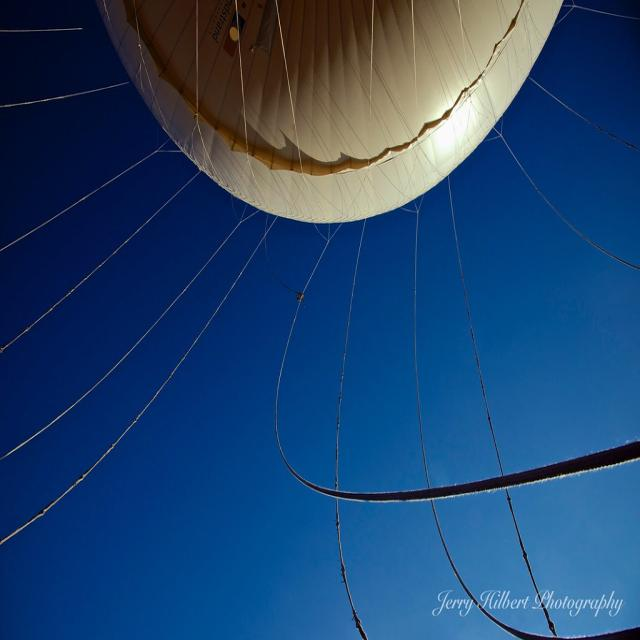balloon: (95, 1, 565, 226)
